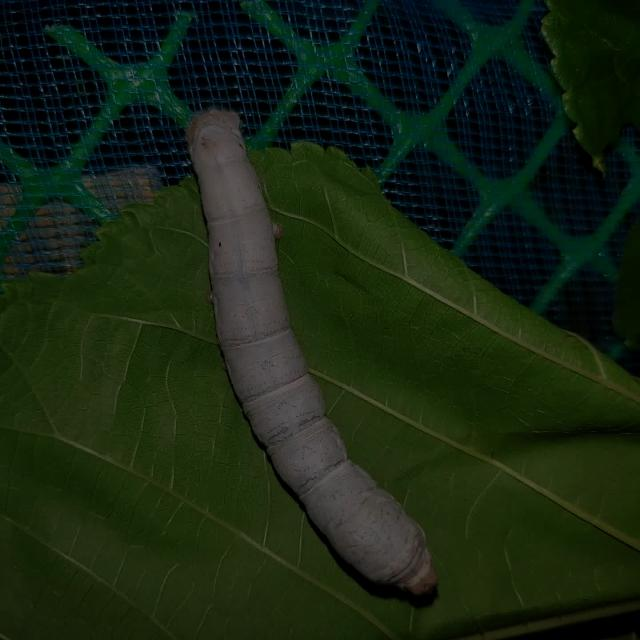Healthy: (172, 100, 451, 599)
